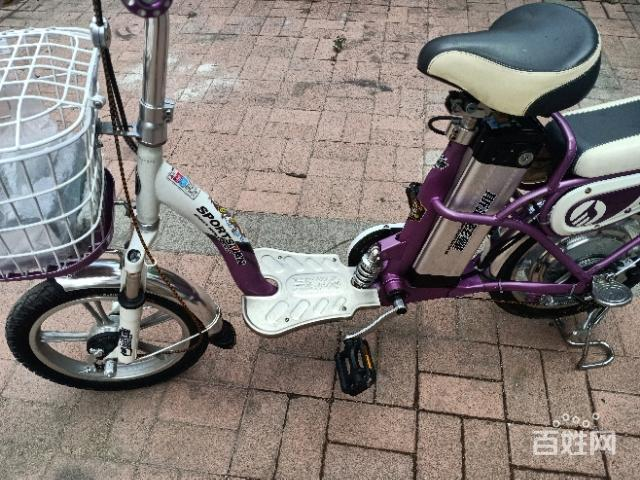电动车: (5, 1, 638, 409)
